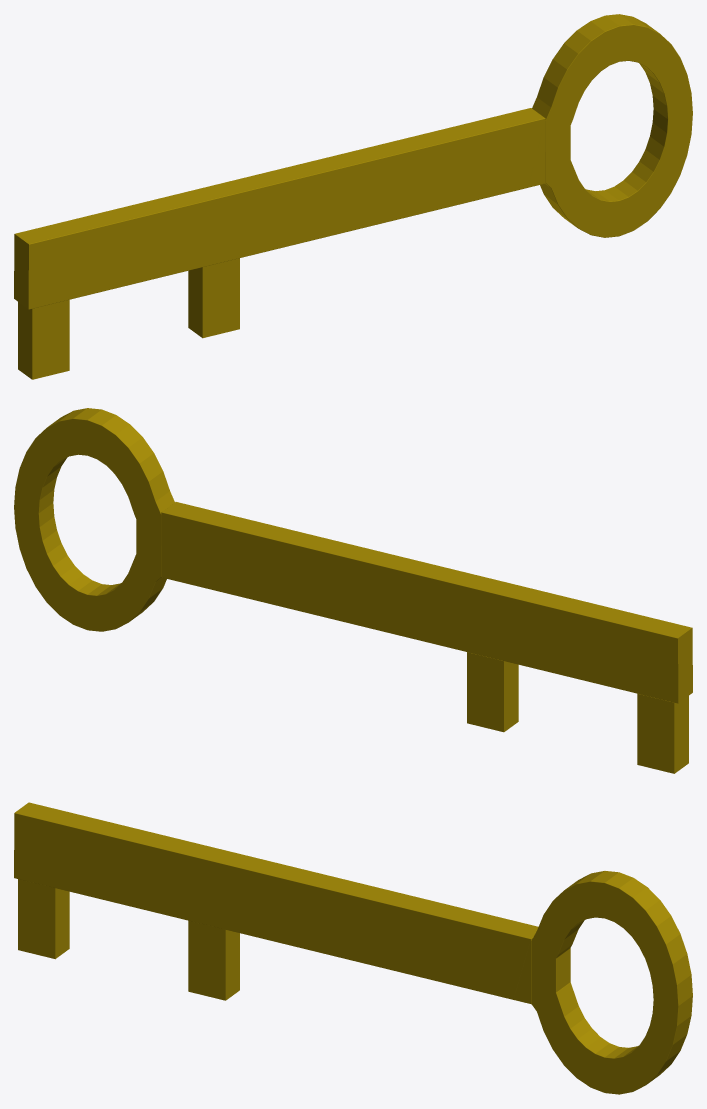
The model's file is chave.glb.
3 renders of one model, top to bottom at view 1: azimuth 30°, elevation 25°; view 2: azimuth 150°, elevation 25°; view 3: azimuth 330°, elevation 25°, orthographic.
Parts seen in each view (by area): view 1: Cubo.001; view 2: Cubo.001; view 3: Cubo.001.
Boxes of the visible parts, box(x1,y1,x2,y2) form: Cubo.001: box(14, 14, 692, 379); Cubo.001: box(14, 408, 692, 773); Cubo.001: box(14, 802, 692, 1094).
Bounding box in the file's own units: 6.61 × 2 × 0.2515.
